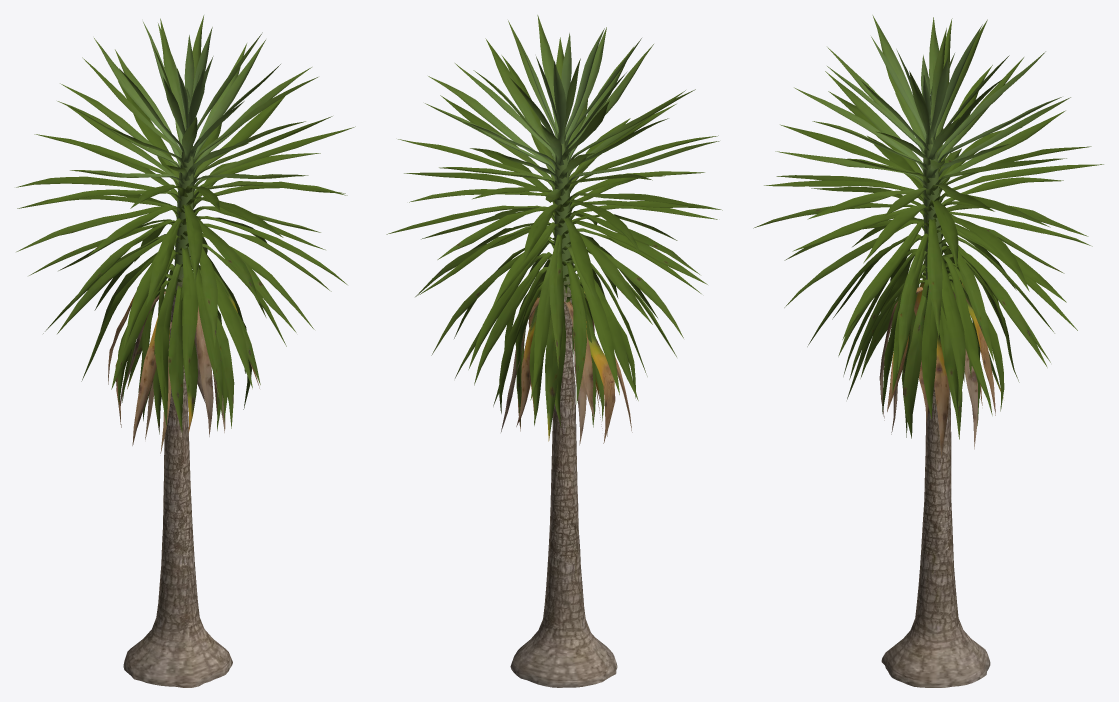
File: yucca0.glb
3 renders of one model, left to right at view 1: azimuth 30°, elevation 25°; view 2: azimuth 150°, elevation 25°; view 3: azimuth 270°, elevation 25°, orthographic.
Visible parts, largest first — view 1: Yucca_elephantipes_HD_Yucca eleph leaf 01b_0, Yucca_elephantipes_HD_Yucca eleph bark 02_0, Yucca_elephantipes_HD_Yucca eleph leaf 01_0, Yucca_elephantipes_HD_Yucca eleph leaf 02_0, Yucca_elephantipes_HD_Yucca eleph crownshaft 01_0; view 2: Yucca_elephantipes_HD_Yucca eleph leaf 01b_0, Yucca_elephantipes_HD_Yucca eleph bark 02_0, Yucca_elephantipes_HD_Yucca eleph leaf 01_0, Yucca_elephantipes_HD_Yucca eleph leaf 02_0, Yucca_elephantipes_HD_Yucca eleph crownshaft 01_0; view 3: Yucca_elephantipes_HD_Yucca eleph leaf 01b_0, Yucca_elephantipes_HD_Yucca eleph leaf 01_0, Yucca_elephantipes_HD_Yucca eleph bark 02_0, Yucca_elephantipes_HD_Yucca eleph leaf 02_0, Yucca_elephantipes_HD_Yucca eleph crownshaft 01_0.
Boxes of the visible parts, x1,y1,x2,y2 form: Yucca_elephantipes_HD_Yucca eleph leaf 01b_0: (16, 68, 355, 434); Yucca_elephantipes_HD_Yucca eleph bark 02_0: (123, 330, 232, 687); Yucca_elephantipes_HD_Yucca eleph leaf 01_0: (57, 15, 317, 176); Yucca_elephantipes_HD_Yucca eleph leaf 02_0: (108, 262, 259, 445); Yucca_elephantipes_HD_Yucca eleph crownshaft 01_0: (172, 128, 193, 305); Yucca_elephantipes_HD_Yucca eleph leaf 01b_0: (386, 55, 722, 441); Yucca_elephantipes_HD_Yucca eleph bark 02_0: (510, 335, 617, 687); Yucca_elephantipes_HD_Yucca eleph leaf 01_0: (409, 15, 695, 202); Yucca_elephantipes_HD_Yucca eleph leaf 02_0: (501, 259, 632, 445); Yucca_elephantipes_HD_Yucca eleph crownshaft 01_0: (554, 131, 571, 309); Yucca_elephantipes_HD_Yucca eleph leaf 01b_0: (753, 65, 1103, 439); Yucca_elephantipes_HD_Yucca eleph leaf 01_0: (794, 15, 1070, 227); Yucca_elephantipes_HD_Yucca eleph bark 02_0: (881, 385, 990, 687); Yucca_elephantipes_HD_Yucca eleph leaf 02_0: (879, 264, 995, 457); Yucca_elephantipes_HD_Yucca eleph crownshaft 01_0: (923, 125, 941, 279).
Bounding box in the file's own units: 1.03 × 2.04 × 1.03.
8 materials, 8 textured.
